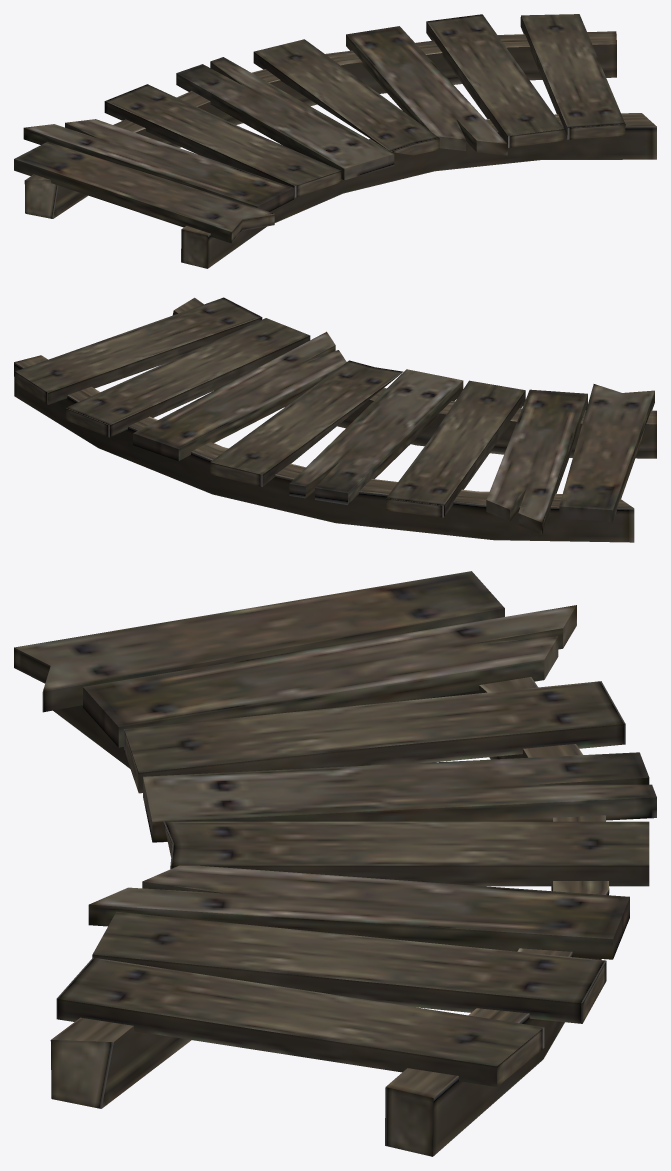
File: DN_lv2_hcwdroad03.FBX
3 renders of one model, top to bottom at view 1: azimuth 30°, elevation 25°; view 2: azimuth 150°, elevation 25°; view 3: azimuth 270°, elevation 25°, orthographic. The views are drawn at different scales.
Parts seen in each view (by area): view 1: DN_lv2_hcwdroad03; view 2: DN_lv2_hcwdroad03; view 3: DN_lv2_hcwdroad03.
Boxes of the visible parts, <box> form: DN_lv2_hcwdroad03: <box>14,14,656,268</box>; DN_lv2_hcwdroad03: <box>14,297,656,542</box>; DN_lv2_hcwdroad03: <box>14,571,656,1156</box>.
Size of the model in its own units: 429 by 28.75 by 226.
